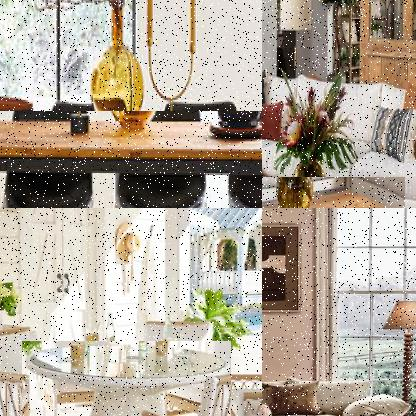table: (0, 111, 261, 207), (21, 341, 233, 415)
